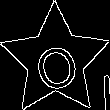O_N: (28, 30, 83, 91)
